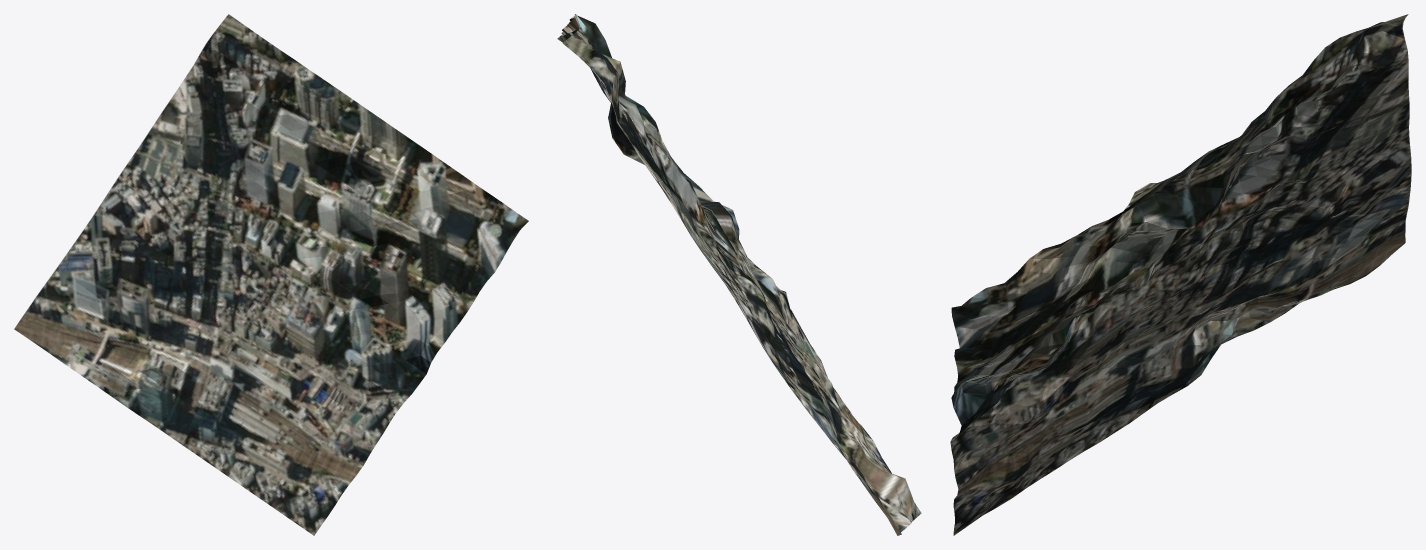
3 views of the same model, side by side, from view 1: azimuth 30°, elevation 25°; view 2: azimuth 150°, elevation 25°; view 3: azimuth 270°, elevation 25° (orthographic). The views are drawn at different scales.
Size of the model in its own units: 1090 by 1125 by 822.
1 material, 1 textured.
